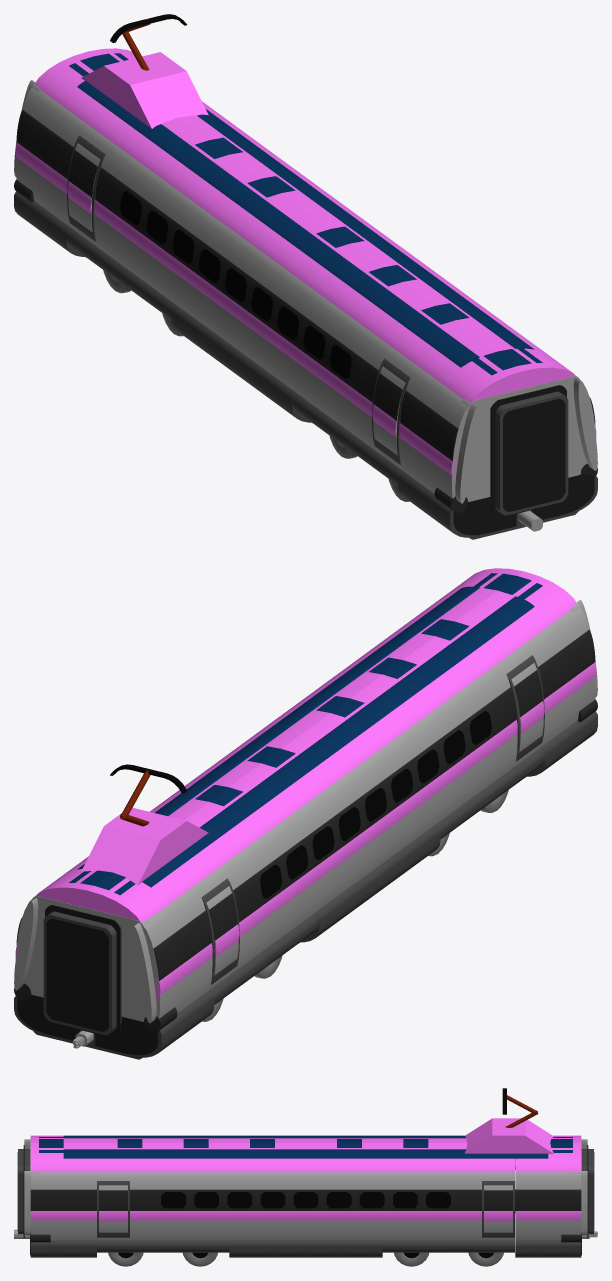
The model's file is compartment.glb.
The picture shows the model from 3 angles, top to bottom: view 1: azimuth 30°, elevation 25°; view 2: azimuth 150°, elevation 25°; view 3: azimuth 270°, elevation 25°; orthographic projection. The views are drawn at different scales.
Visible parts, largest first — view 1: compartment; view 2: compartment; view 3: compartment.
Boxes of the visible parts, <box> form: compartment: <box>14,14,597,539</box>; compartment: <box>14,568,597,1059</box>; compartment: <box>14,1088,597,1266</box>.
Bounding box in the file's own units: 3.27 × 5.26 × 17.63.
1 material, 1 textured.
